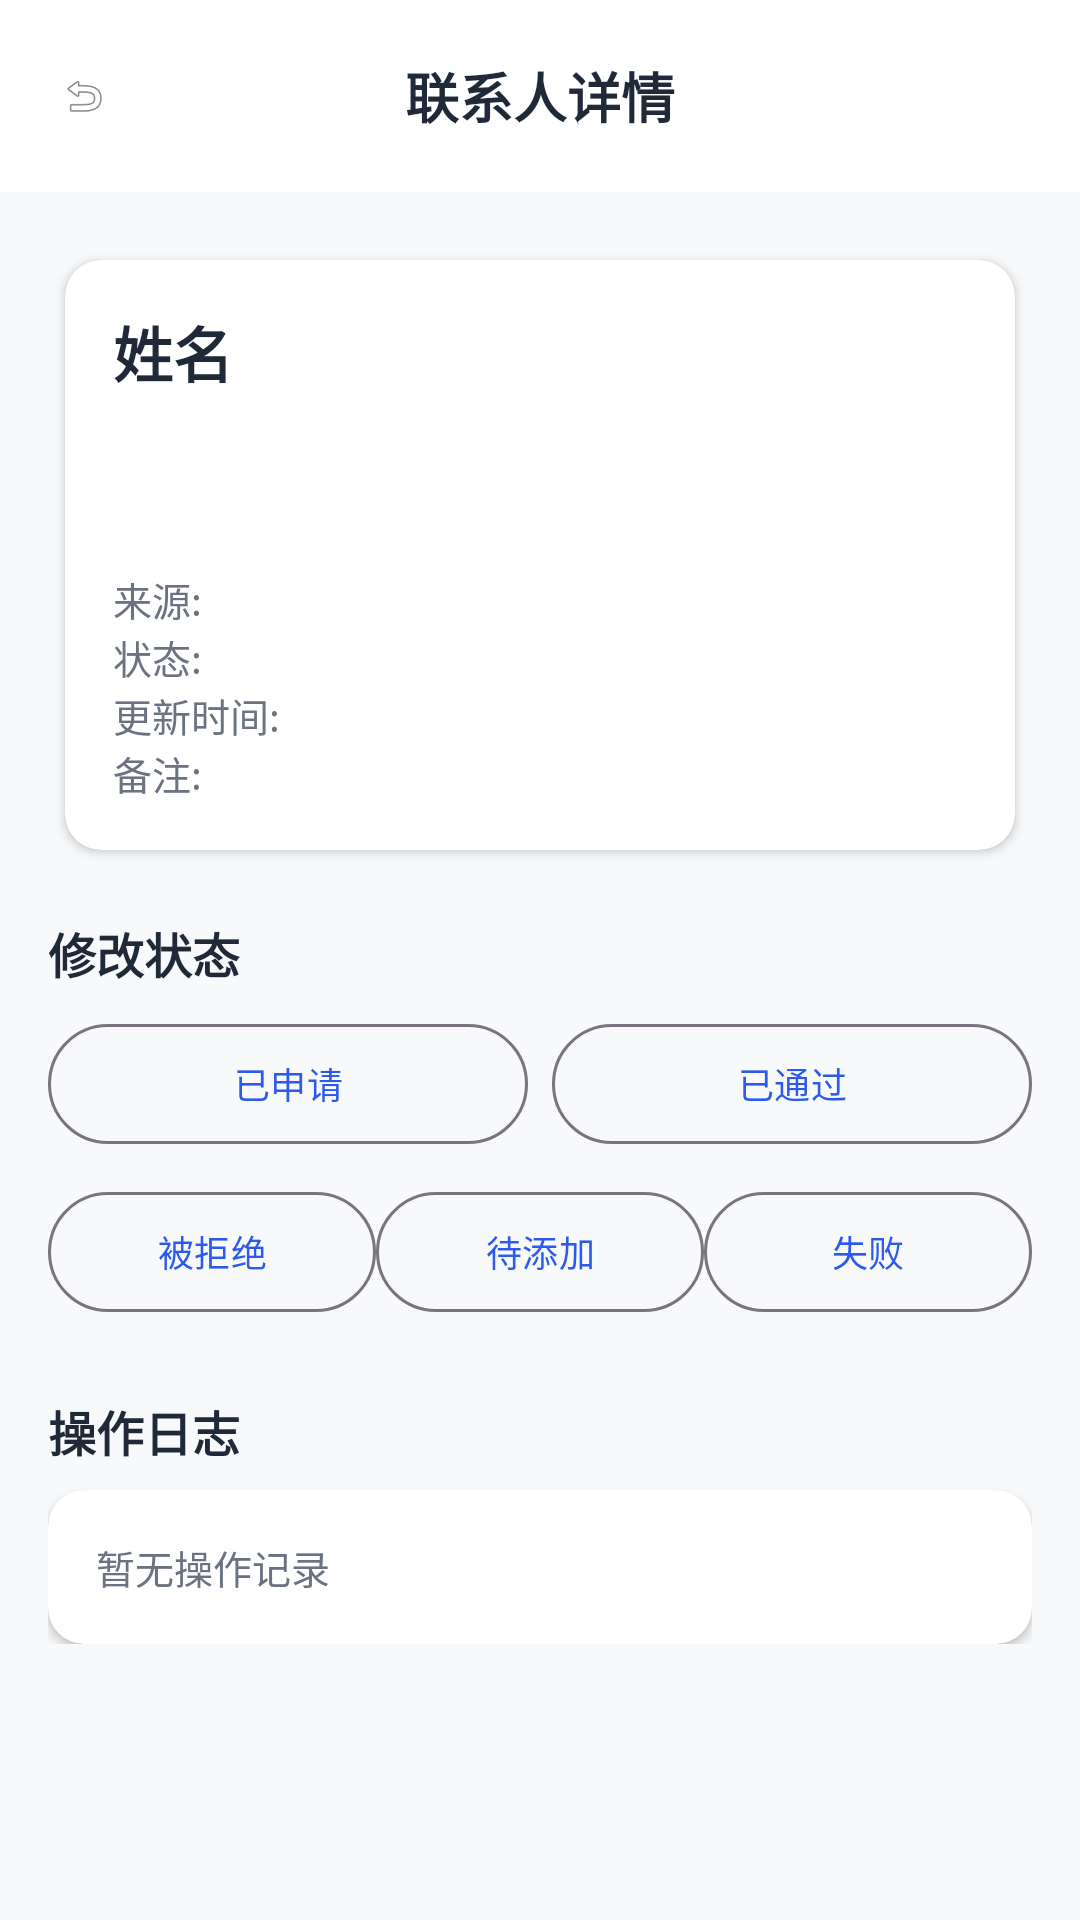

Where icons sit on this 1080px×1920px app screen, as (x1, y1, x2, y2):
返回: (67, 81, 102, 112)
